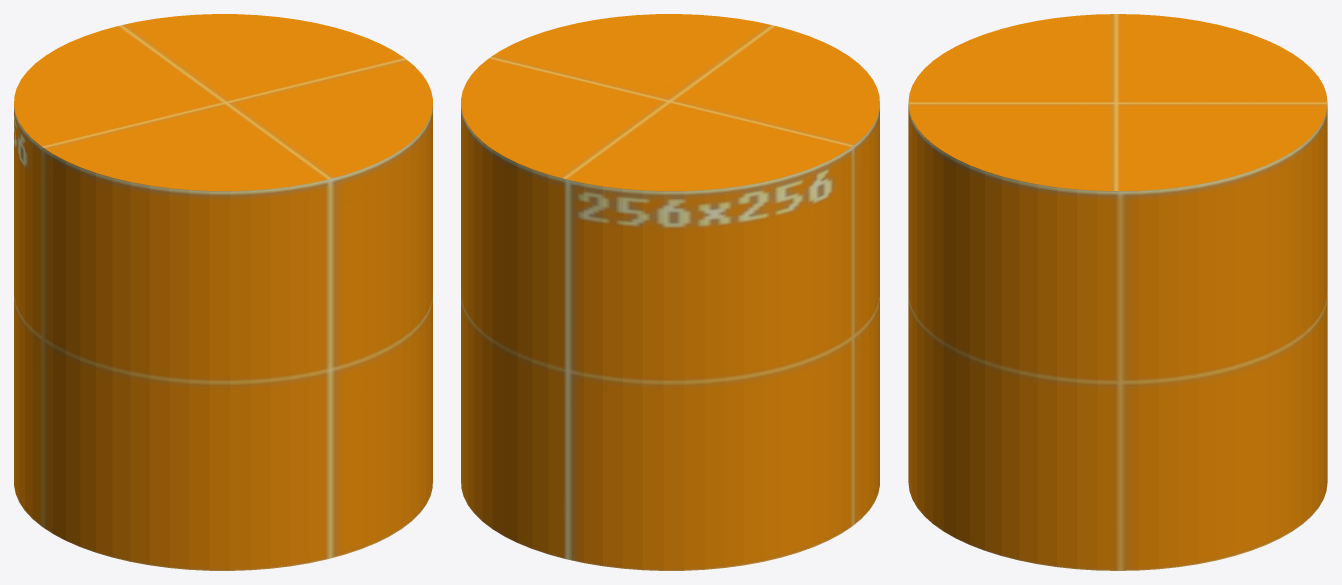
The model's file is cyl.fbx.
The picture shows the model from 3 angles, left to right: view 1: azimuth 30°, elevation 25°; view 2: azimuth 150°, elevation 25°; view 3: azimuth 270°, elevation 25°; orthographic projection.
Visible parts, largest first — view 1: Cylinder; view 2: Cylinder; view 3: Cylinder.
Boxes of the visible parts, bbox=[...] form: Cylinder: bbox=[14, 14, 432, 570]; Cylinder: bbox=[461, 14, 879, 570]; Cylinder: bbox=[908, 14, 1327, 570].
Size of the model in its own units: 200 by 200 by 200.
Materials: 1 (1 with a texture image).
